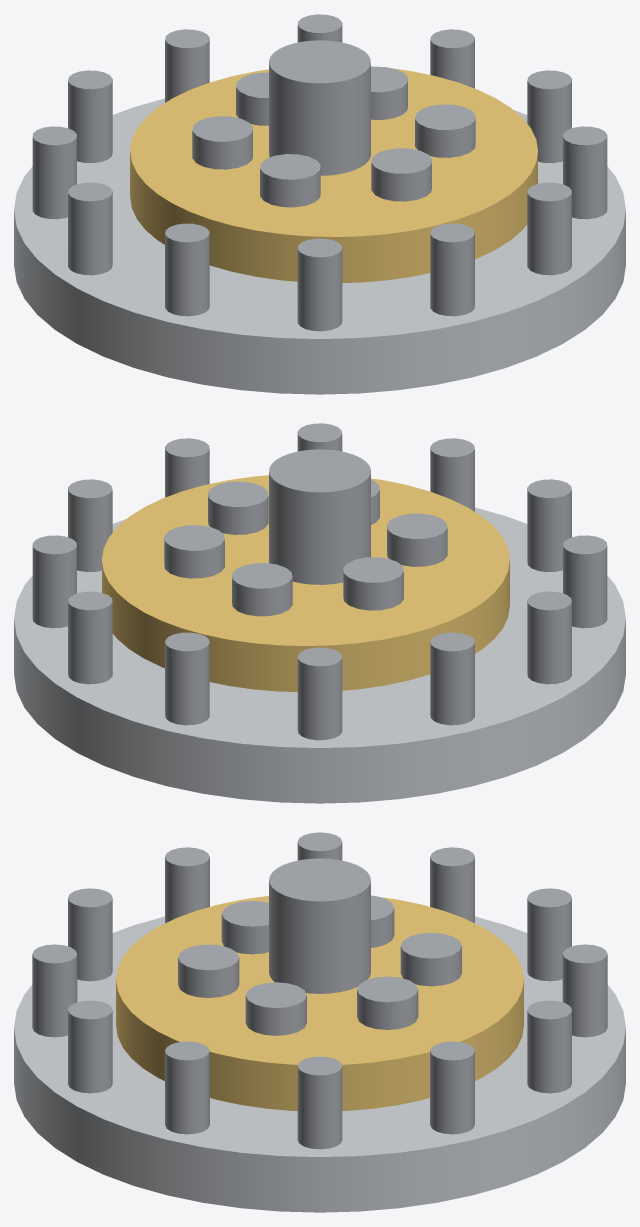
File: argos-joint.glb
3 renders of one model, top to bottom at view 1: azimuth 30°, elevation 25°; view 2: azimuth 150°, elevation 25°; view 3: azimuth 270°, elevation 25°, orthographic.
Visible parts, largest first — view 1: PinRing, CycloidDisc, InputShaft, Pin5, Pin6, Pin7, Pin3, Pin4, Pin2, Pin8, Pin9, Pin1 (+9 smaller); view 2: PinRing, CycloidDisc, InputShaft, Pin9, Pin8, Pin7, Pin10, Pin11, Pin12, Pin6, Pin5, Pin1 (+8 smaller); view 3: PinRing, CycloidDisc, InputShaft, Pin1, Pin2, Pin12, Pin3, Pin11, Pin4, Pin10, Pin5, Pin9 (+9 smaller).
Boxes of the visible parts, x1,y1,x2,y2 form: PinRing: (14, 98, 625, 394); CycloidDisc: (130, 66, 537, 282); InputShaft: (269, 40, 370, 175); Pin5: (297, 238, 342, 331); Pin6: (165, 223, 209, 316); Pin7: (68, 182, 112, 275); Pin3: (527, 182, 571, 275); Pin4: (430, 223, 474, 316); Pin2: (563, 126, 607, 219); Pin8: (32, 126, 76, 219); Pin9: (68, 70, 112, 162); Pin1: (527, 70, 571, 163); PinRing: (14, 507, 625, 803); CycloidDisc: (102, 475, 509, 691); InputShaft: (269, 449, 370, 584); Pin9: (297, 647, 342, 740); Pin8: (430, 632, 474, 725); Pin7: (527, 591, 571, 684); Pin10: (165, 632, 209, 725); Pin11: (68, 591, 112, 684); Pin12: (32, 535, 76, 628); Pin6: (563, 535, 607, 628); Pin5: (527, 479, 571, 571); Pin1: (68, 479, 112, 572); PinRing: (14, 916, 625, 1212); CycloidDisc: (116, 896, 523, 1110); InputShaft: (269, 858, 370, 993); Pin1: (297, 1056, 342, 1149); Pin2: (165, 1041, 209, 1134); Pin12: (430, 1041, 474, 1134); Pin3: (68, 1000, 112, 1093); Pin11: (527, 1000, 571, 1093); Pin4: (32, 944, 77, 1037); Pin10: (562, 944, 607, 1037); Pin5: (68, 888, 112, 981); Pin9: (527, 888, 571, 981).
Size of the model in its own units: 60 by 22 by 60.
